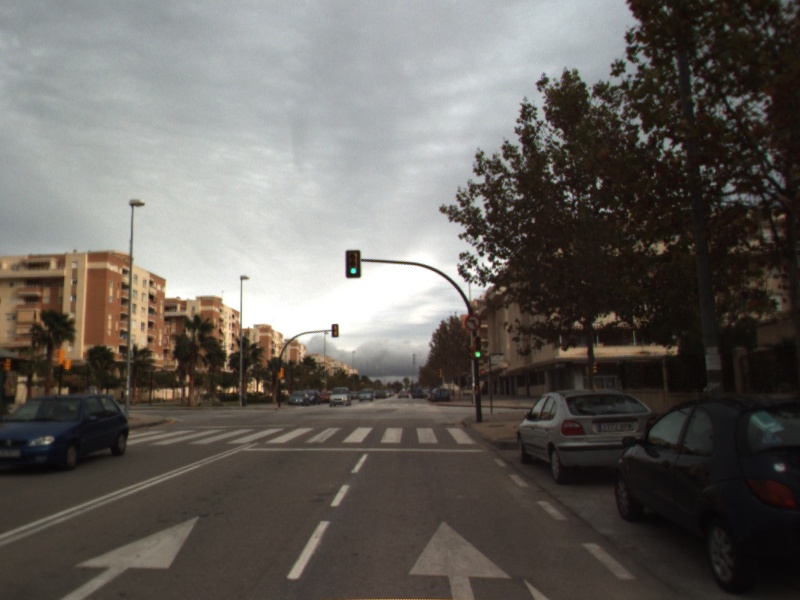STRAIGHT: (54, 512, 201, 600), (405, 517, 514, 600)
